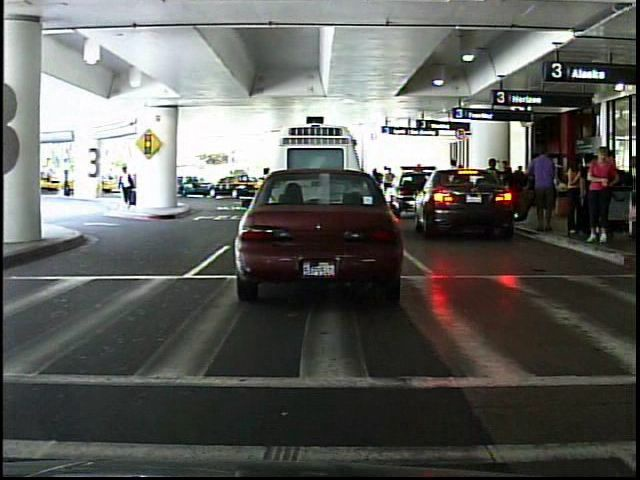person: (584, 143, 620, 249), (112, 159, 144, 211), (61, 163, 77, 202)
